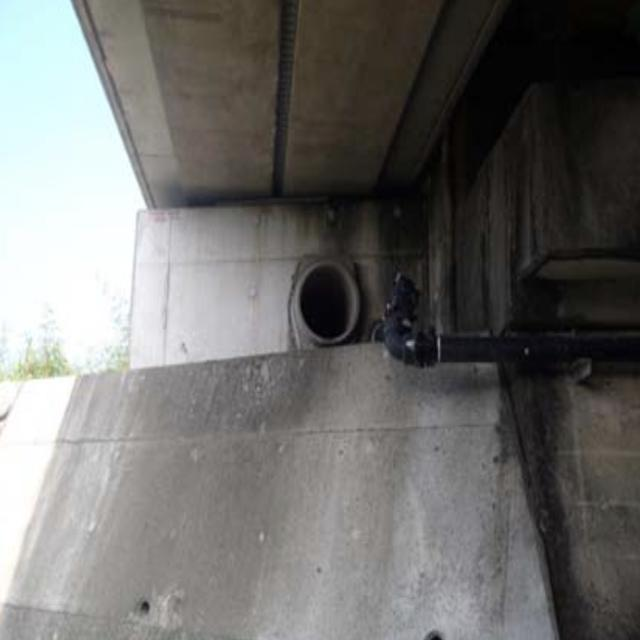leakage: (314, 187, 449, 347)
